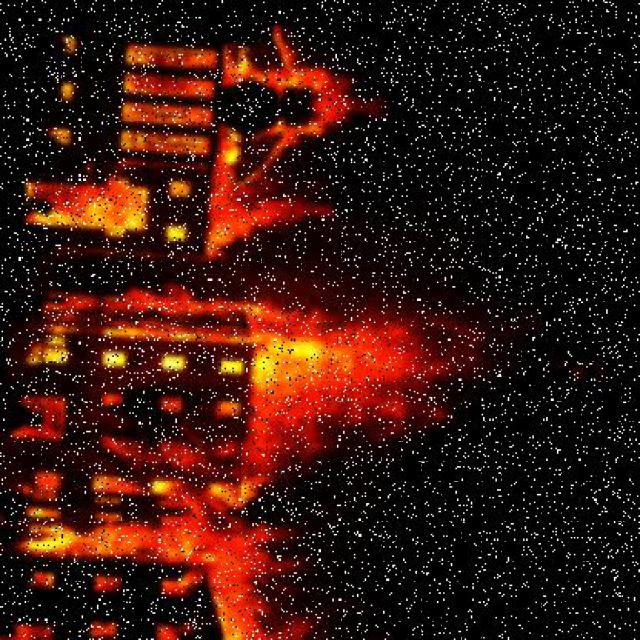fire: (66, 266, 503, 640)
